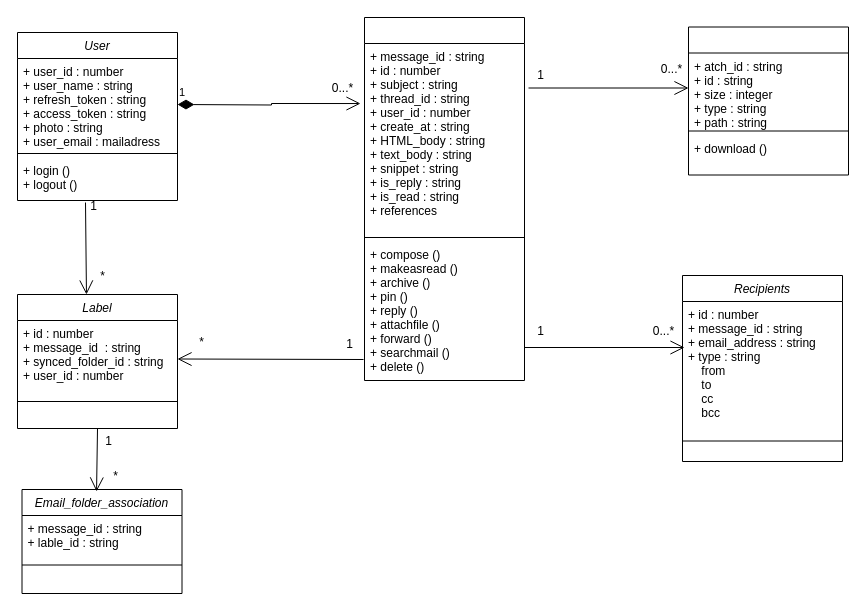
This 866x611 diagram has some shape labels left out. Here are the shapes that lost their labels. From the top down, the box of each, then its label:
(688, 26, 848, 175): Message Attachment
(364, 16, 524, 380): Email
